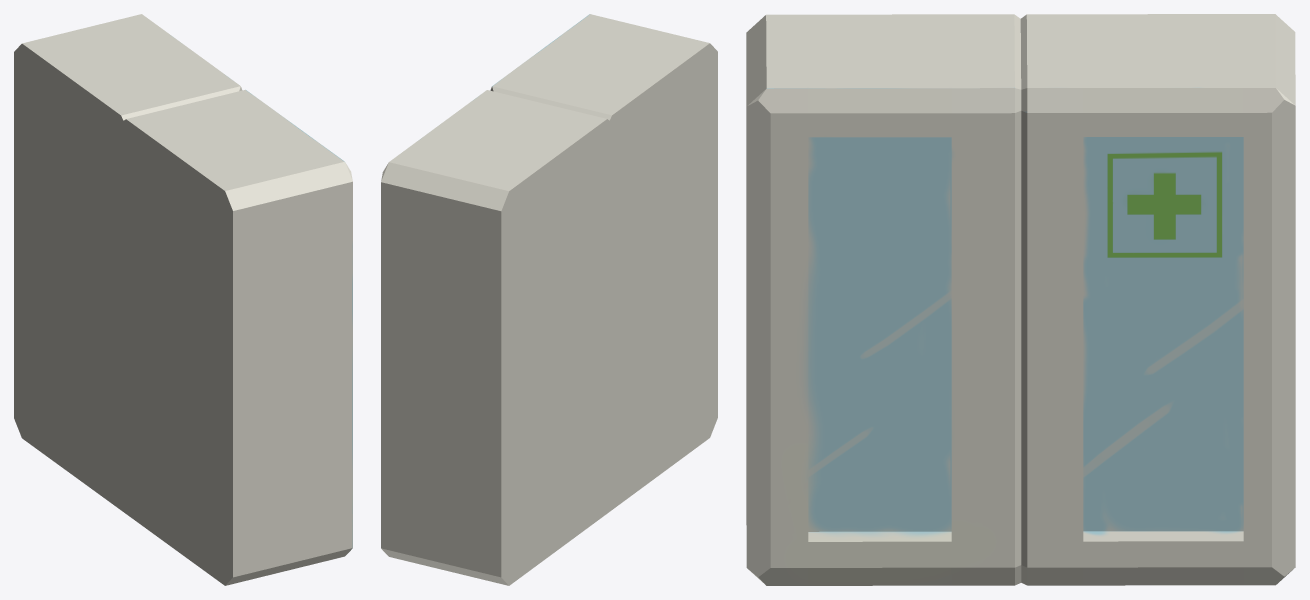
Rendered from Medizinschrank.fbx.
3 views of the same model, side by side, from view 1: azimuth 30°, elevation 25°; view 2: azimuth 150°, elevation 25°; view 3: azimuth 270°, elevation 25° (orthographic). The views are drawn at different scales.
Parts seen in each view (by area): view 1: Cube; view 2: Cube; view 3: Cube.
Boxes of the visible parts, box(x1,y1,x2,y2) form: Cube: box(14, 14, 352, 585); Cube: box(381, 14, 717, 585); Cube: box(746, 14, 1295, 585).
Size of the model in its own units: 20.18 by 60 by 60.06.
